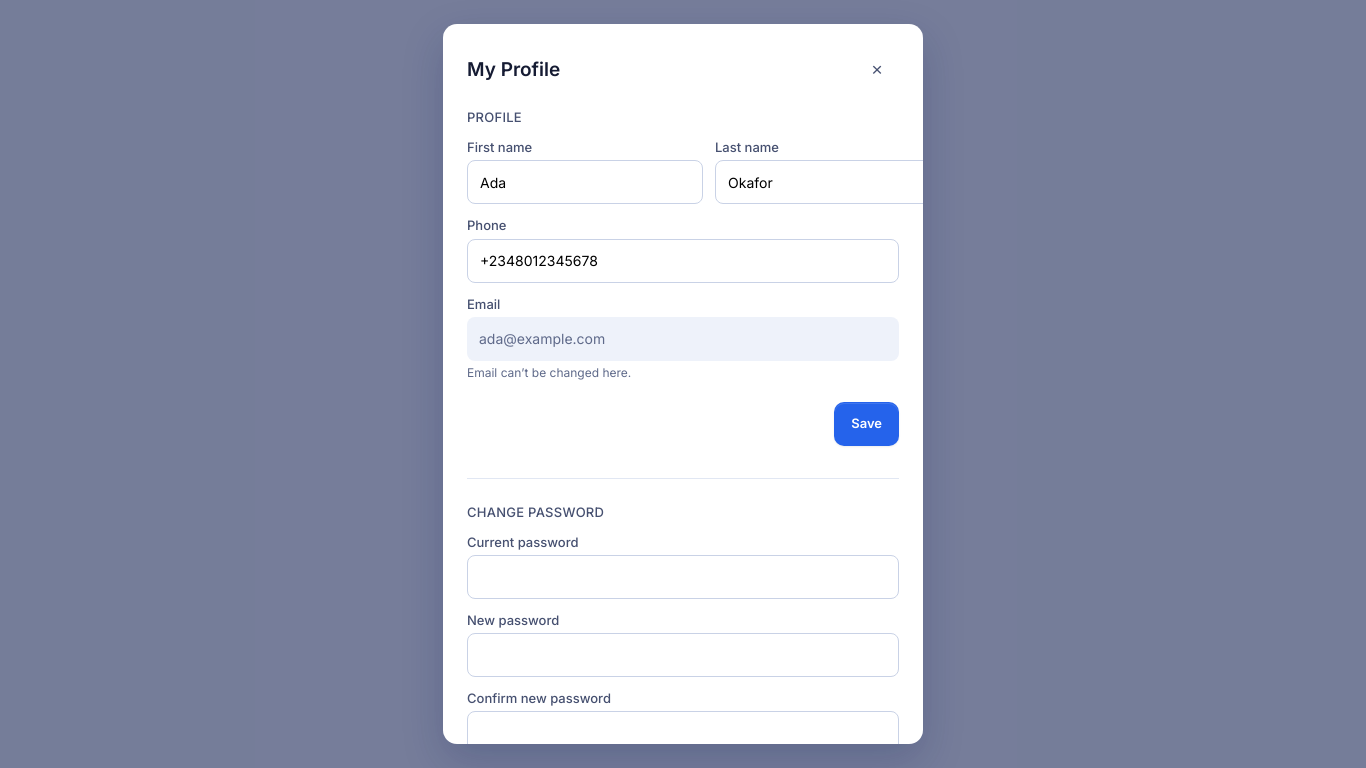
Test case: <MyAccountModal> › singular "1 other session" is not pluralized
Expected: the field showing "Ada" is shown, [467, 160, 703, 204]
Type "the original strong passphrase" into the password field labelled "Current password" at (683, 577), box [467, 555, 899, 599]
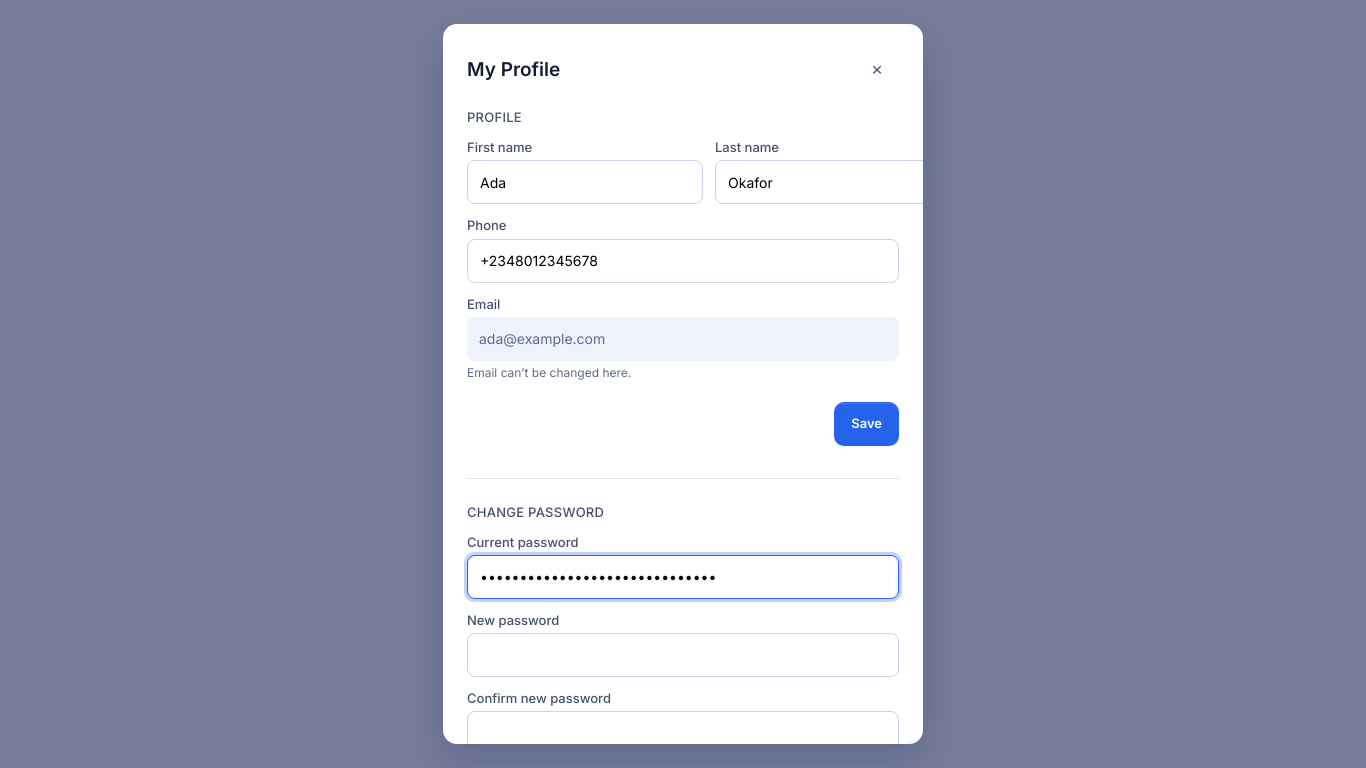
Type "a brand new strong passphrase" into the password field labelled "New password" at (683, 655), box [467, 633, 899, 677]
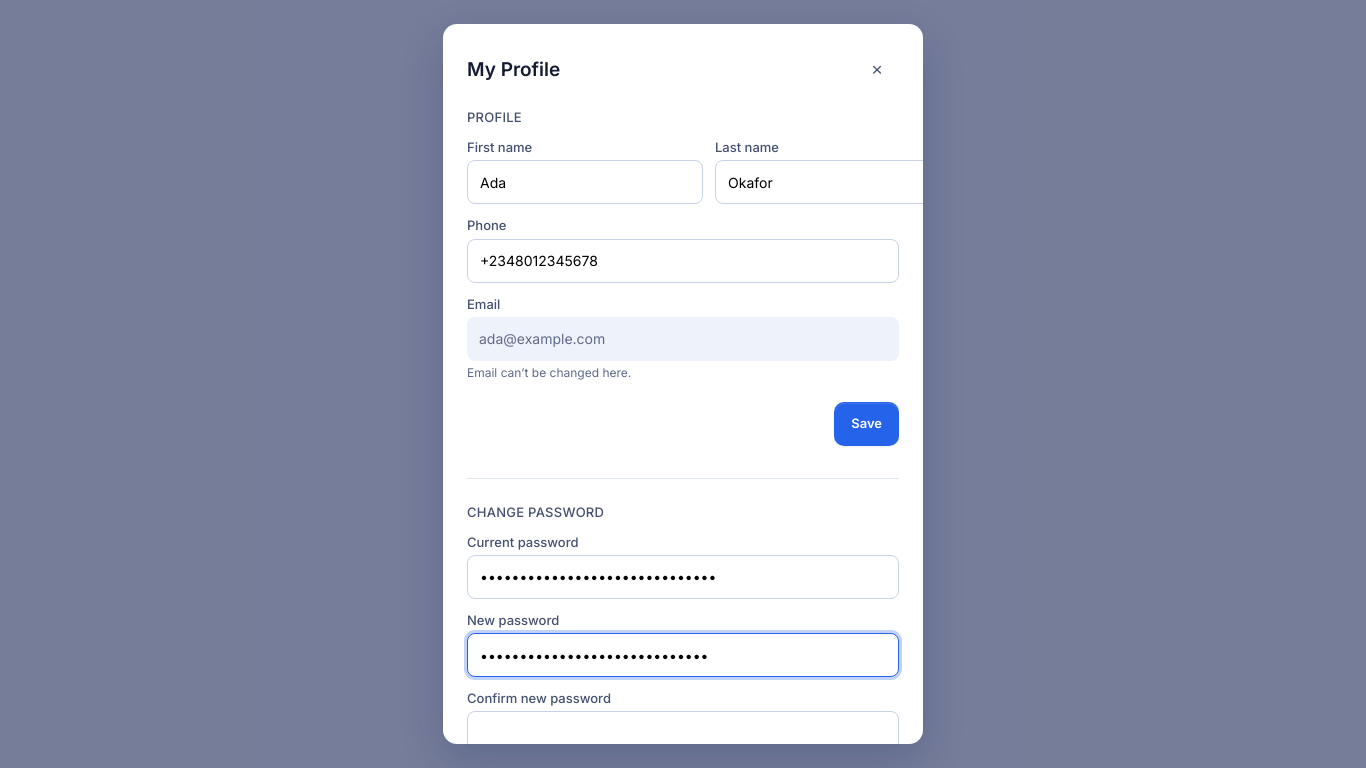
Type "a brand new strong passphrase" into the password field labelled "Confirm new password" at (683, 733), box [467, 711, 899, 755]
(page scrolled)
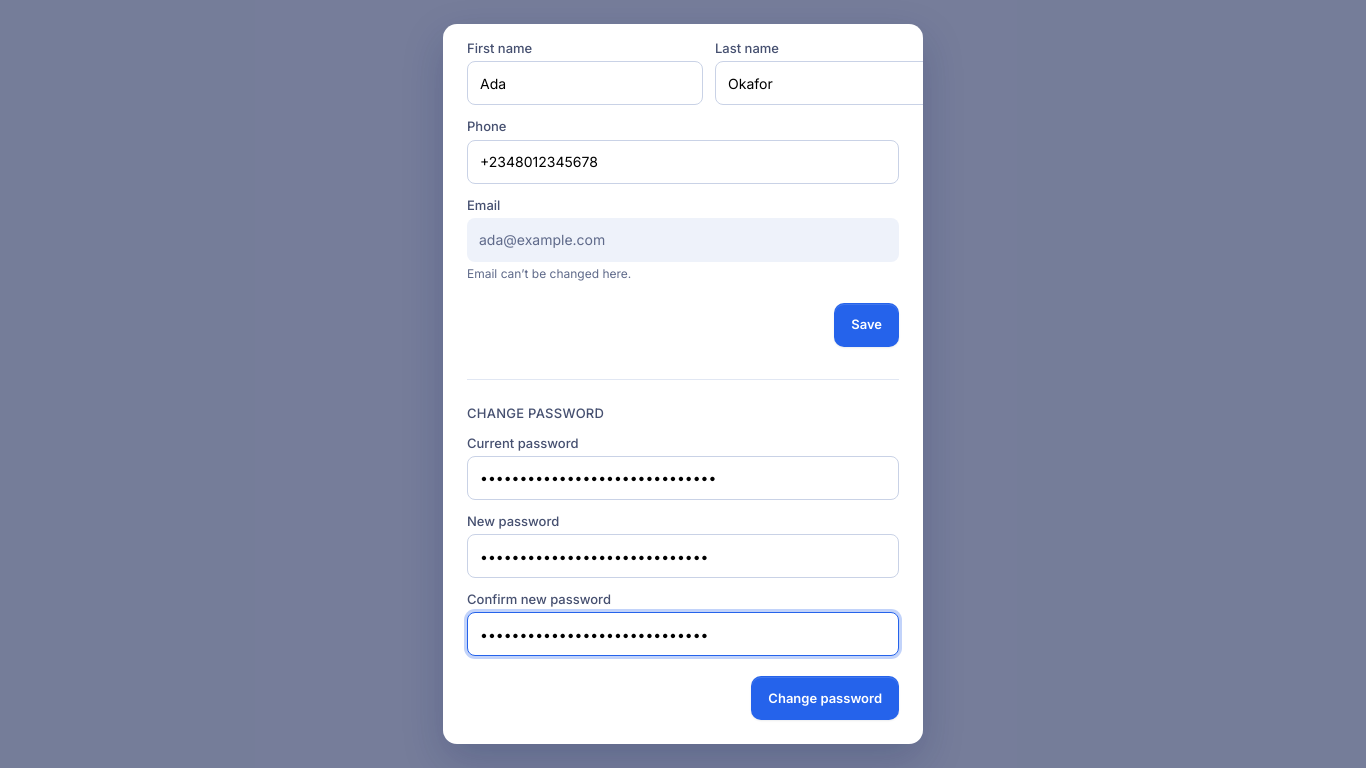
Click the button "Change password" at (825, 698), box [751, 676, 899, 720]
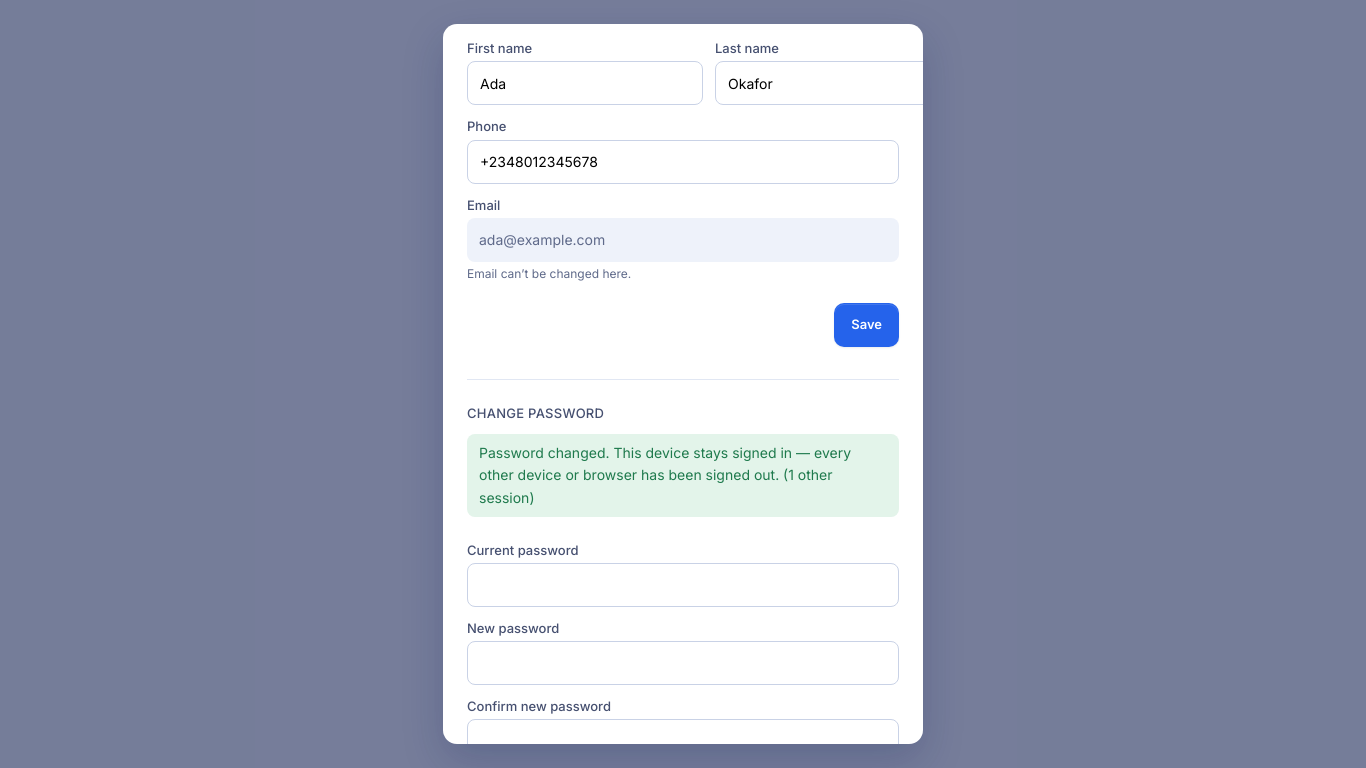
Expected: the message shows "(1 other session)", [479, 444, 851, 506]
